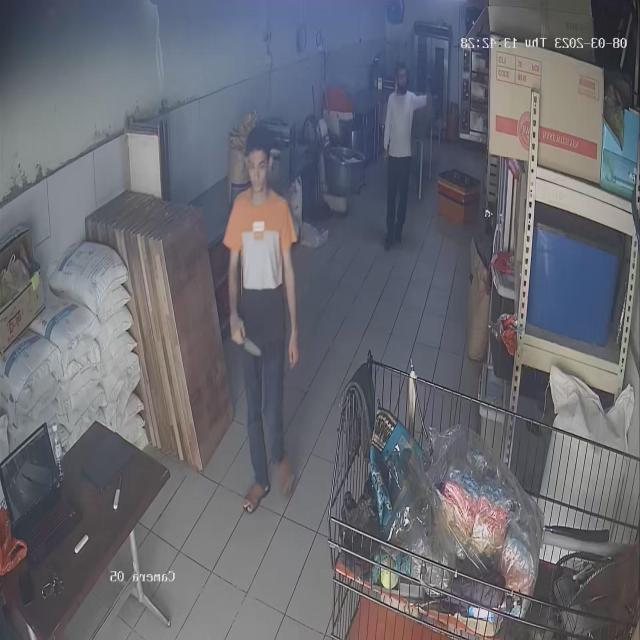Knife: (223, 328, 269, 367)
